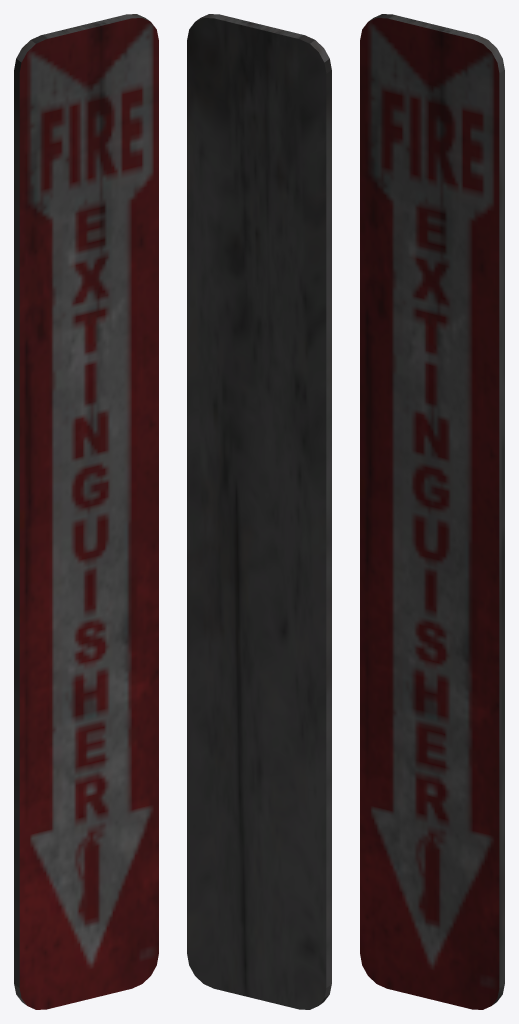
File: p6_signage_fire_extinguisher_lod0.glb
The picture shows the model from 3 angles, left to right: view 1: azimuth 30°, elevation 25°; view 2: azimuth 150°, elevation 25°; view 3: azimuth 330°, elevation 25°; orthographic projection.
Visible parts, largest first — view 1: surf0, surf1; view 2: surf1; view 3: surf0, surf1.
Part boxes in pixels (box(x1,y1,x2,y2)): surf0: box(19, 18, 158, 1009); surf1: box(14, 14, 149, 1005); surf1: box(187, 14, 331, 1009); surf0: box(360, 18, 499, 1009); surf1: box(369, 14, 504, 1005).
Size of the model in its own units: 5.83 by 38.78 by 0.3927.
